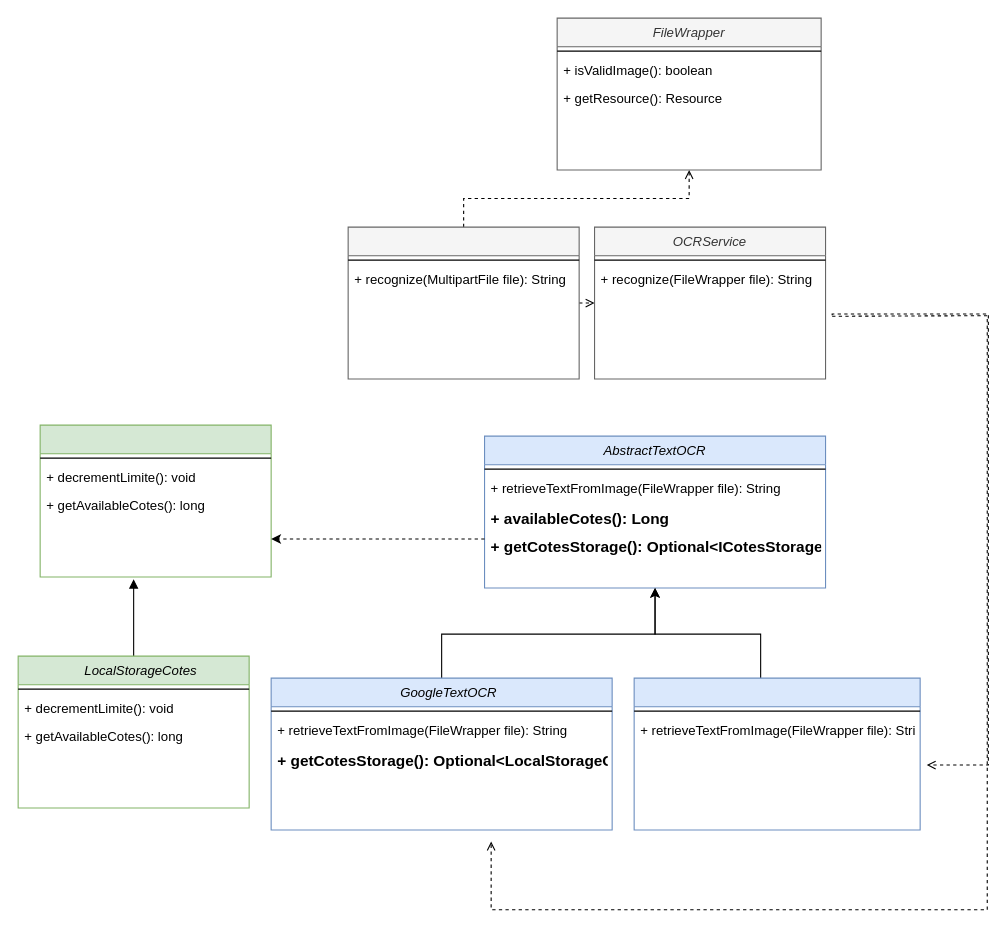
Image size: 1007x927. Some labels were removed from this diagram. The box of each missing label's shape, as (x1, y1, x2, y2) in pixels:
AmazonTextOCR: (633, 677, 920, 830)
ICotesStorage: (39, 424, 271, 577)
OCRController: (347, 226, 579, 379)
